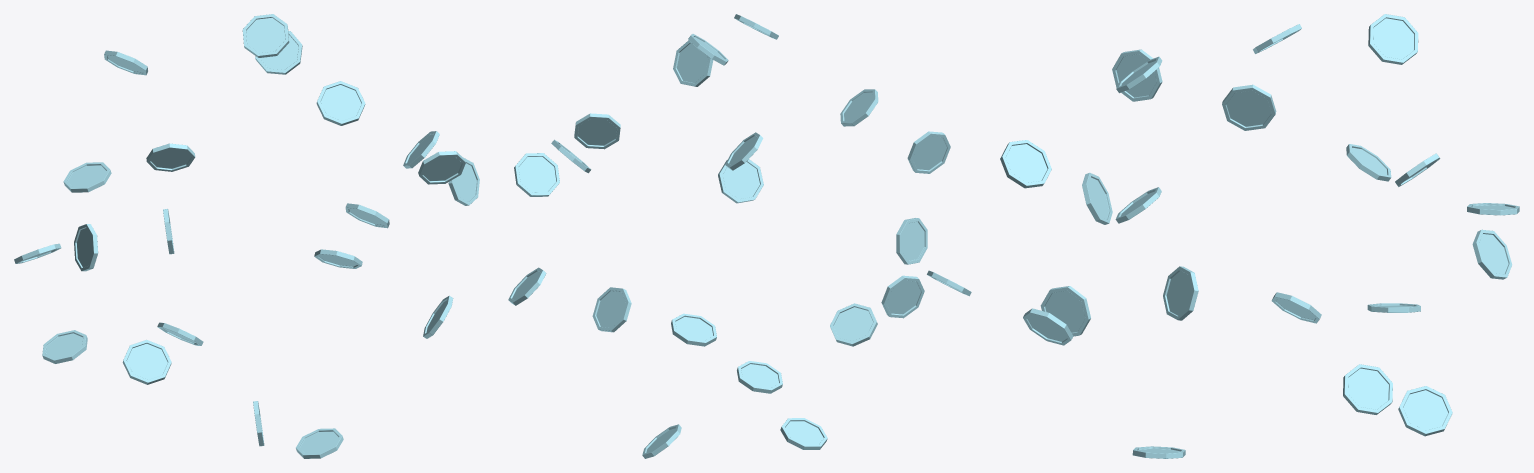
The model's file is ApabankCoin.glb.
3 views of the same model, side by side, from view 1: azimuth 30°, elevation 25°; view 2: azimuth 150°, elevation 25°; view 3: azimuth 270°, elevation 25° (orthographic). The views are drawn at different scales.
Parts seen in each view (by area): view 1: coin_octagono.001; view 2: coin_octagono.001; view 3: coin_octagono.001.
Part boxes in pixels (x1,y1,x2,y2): coin_octagono.001: (14, 14, 479, 458); coin_octagono.001: (508, 14, 971, 458); coin_octagono.001: (1000, 14, 1519, 458).
Bounding box in the file's own units: 4.67 × 4.51 × 4.83.
